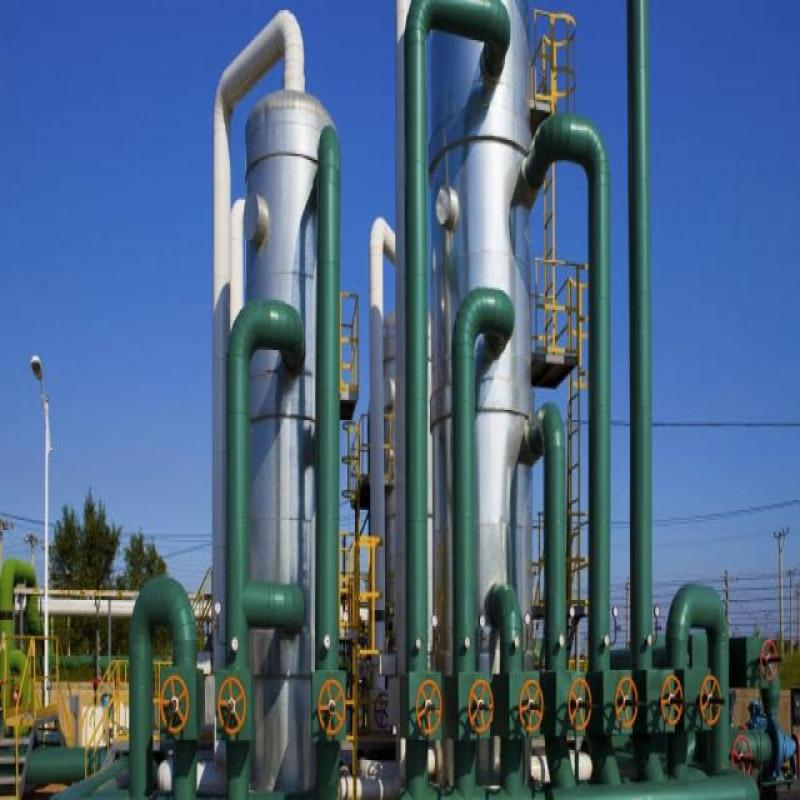Healthy: (153, 71, 640, 734)
